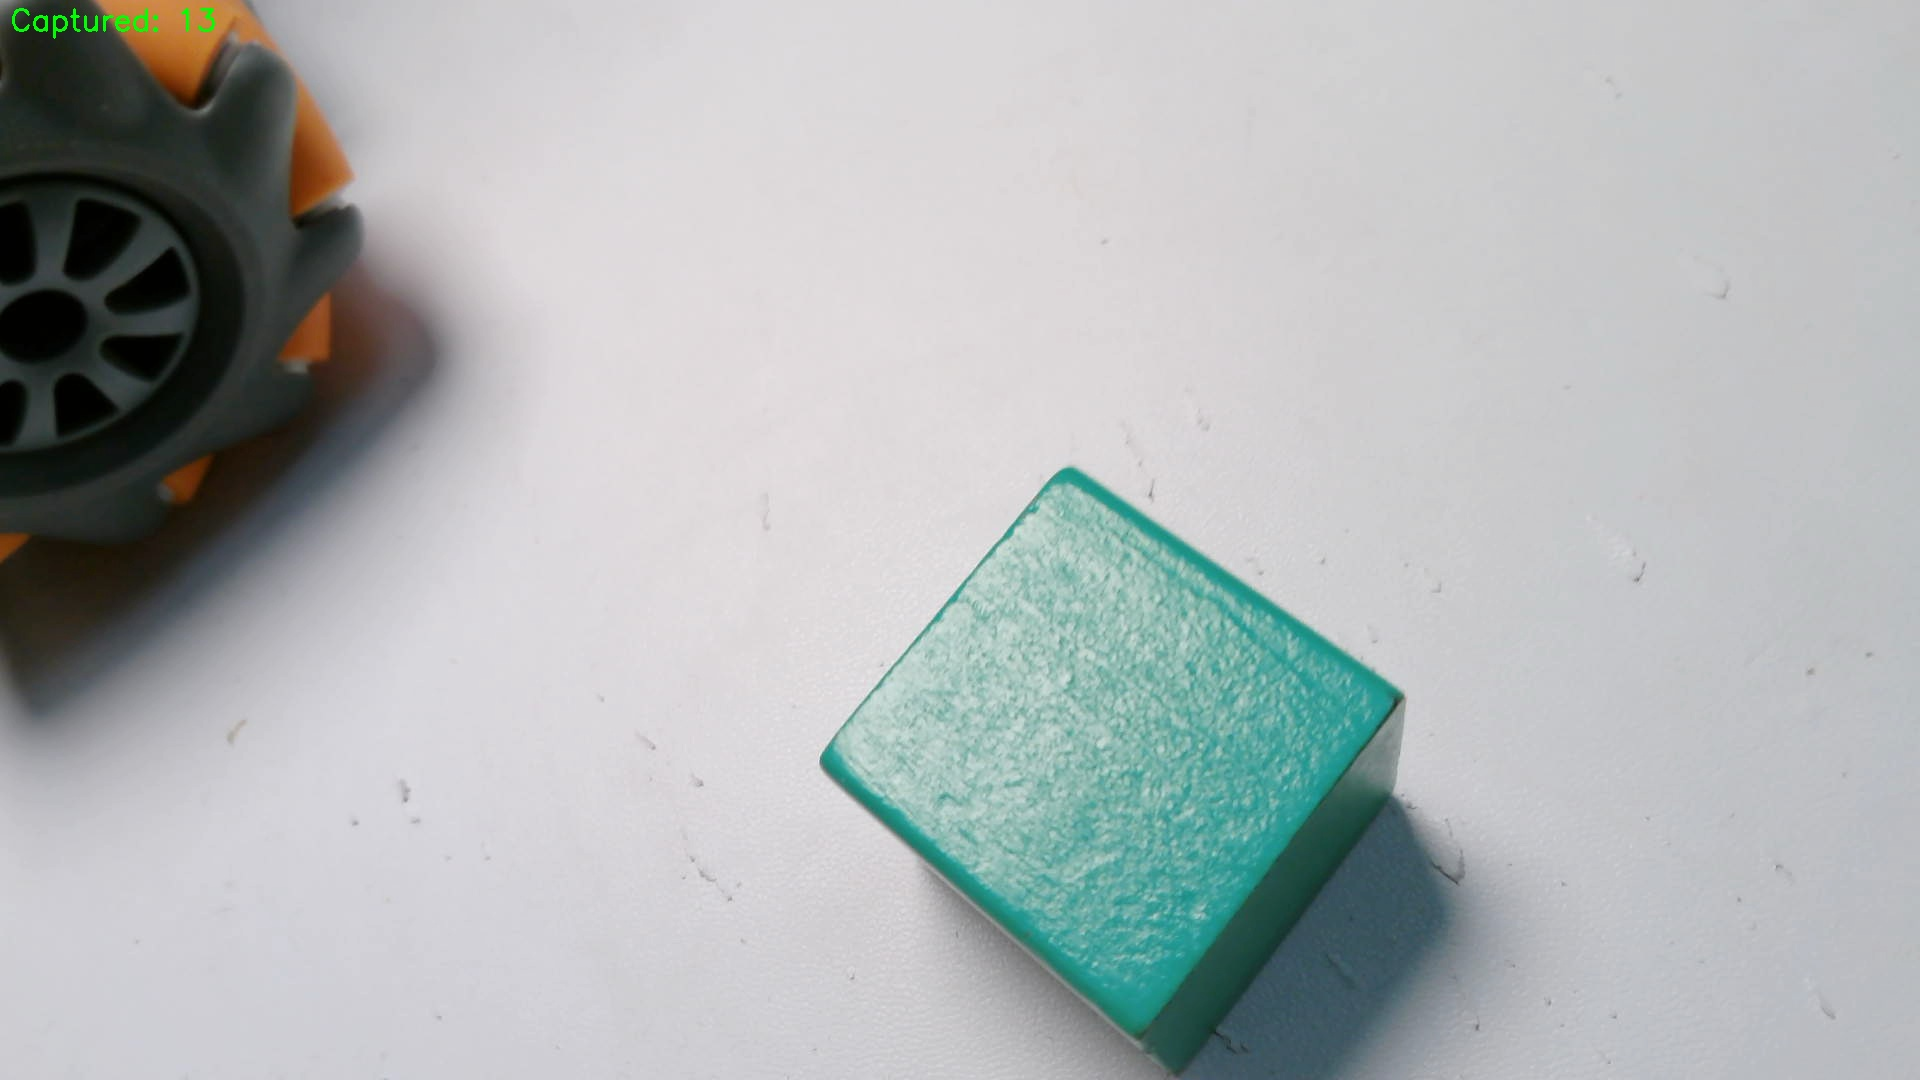green: (822, 463, 1404, 1073)
